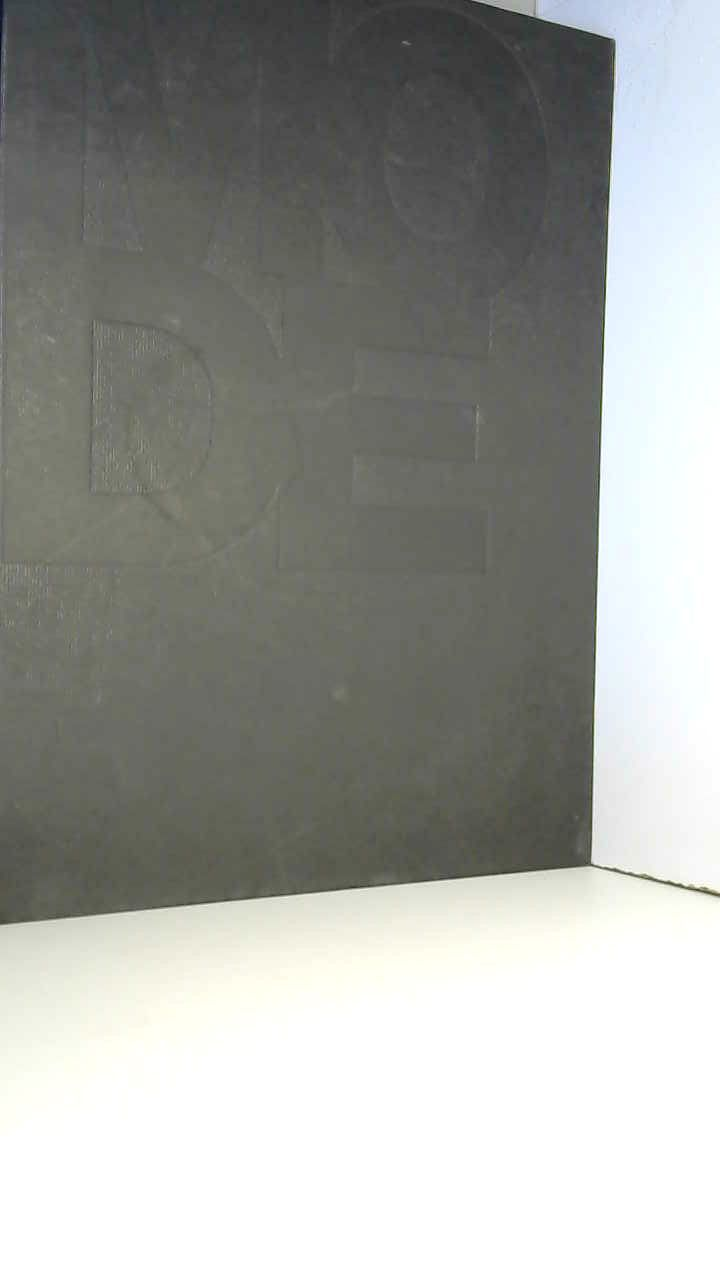book: (0, 0, 649, 959)
